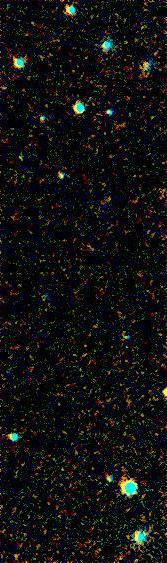star: (31, 92, 61, 122)
